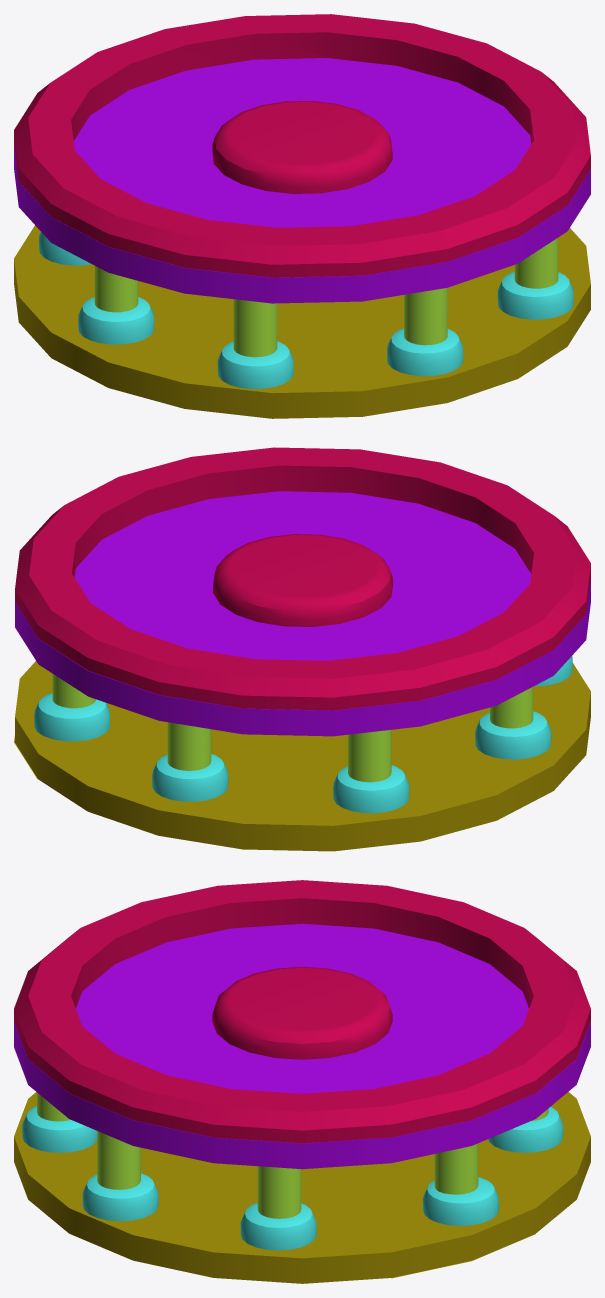
File: SixPropsTable.fbx
3 views of the same model, one above another, from view 1: azimuth 30°, elevation 25°; view 2: azimuth 150°, elevation 25°; view 3: azimuth 270°, elevation 25° (orthographic).
Parts seen in each view (by area): view 1: pCylinder48, pCylinder38, pCylinder21, pCylinder39, pCylinder42, pCylinder41, pCylinder27, pCylinder22, pCylinder34, pCylinder35, pCylinder33, pCylinder36 (+1 smaller); view 2: pCylinder48, pCylinder38, pCylinder21, pCylinder39, pCylinder44, pCylinder42, pCylinder45, pCylinder40, pCylinder32, pCylinder31, pCylinder33, pCylinder30; view 3: pCylinder48, pCylinder38, pCylinder21, pCylinder39, pCylinder43, pCylinder27, pCylinder44, pCylinder22, pCylinder37, pCylinder36, pCylinder30, pCylinder40.
Boxes of the visible parts, bbox=[...] form: pCylinder48: bbox=[14, 14, 590, 277]; pCylinder38: bbox=[14, 58, 590, 303]; pCylinder21: bbox=[14, 225, 590, 418]; pCylinder39: bbox=[212, 101, 392, 193]; pCylinder42: bbox=[78, 297, 154, 344]; pCylinder41: bbox=[217, 341, 293, 388]; pCylinder27: bbox=[497, 271, 573, 319]; pCylinder22: bbox=[387, 328, 463, 376]; pCylinder34: bbox=[233, 299, 277, 357]; pCylinder35: bbox=[404, 288, 447, 345]; pCylinder33: bbox=[94, 266, 138, 312]; pCylinder36: bbox=[514, 238, 558, 288]; pCylinder48: bbox=[15, 447, 590, 710]; pCylinder38: bbox=[15, 491, 590, 736]; pCylinder21: bbox=[14, 661, 590, 851]; pCylinder39: bbox=[213, 534, 392, 626]; pCylinder44: bbox=[34, 693, 109, 741]; pCylinder42: bbox=[475, 711, 551, 759]; pCylinder45: bbox=[333, 765, 409, 813]; pCylinder40: bbox=[152, 754, 228, 801]; pCylinder32: bbox=[348, 730, 391, 782]; pCylinder31: bbox=[167, 722, 211, 770]; pCylinder33: bbox=[490, 687, 533, 728]; pCylinder30: bbox=[52, 674, 95, 708]; pCylinder48: bbox=[14, 880, 590, 1143]; pCylinder38: bbox=[14, 923, 590, 1169]; pCylinder21: bbox=[14, 1092, 590, 1283]; pCylinder39: bbox=[212, 966, 392, 1059]; pCylinder43: bbox=[240, 1202, 316, 1250]; pCylinder27: bbox=[82, 1173, 158, 1221]; pCylinder44: bbox=[423, 1177, 498, 1225]; pCylinder22: bbox=[22, 1106, 97, 1152]; pCylinder37: bbox=[257, 1166, 301, 1218]; pCylinder36: bbox=[97, 1131, 140, 1189]; pCylinder30: bbox=[434, 1143, 478, 1194]; pCylinder40: bbox=[488, 1107, 563, 1152].
Bounding box in the file's own units: 14.58 × 4.63 × 14.58.
